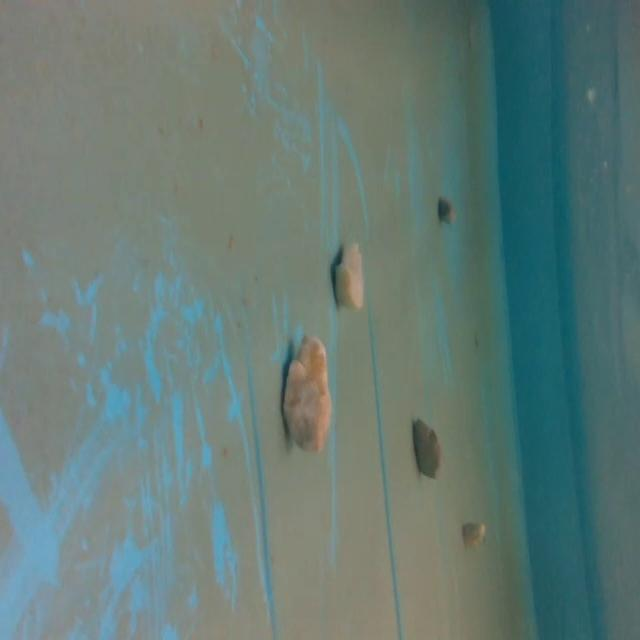rock: (277, 330, 340, 460), (330, 236, 370, 322), (411, 407, 445, 492), (458, 516, 488, 554), (435, 190, 456, 230)
